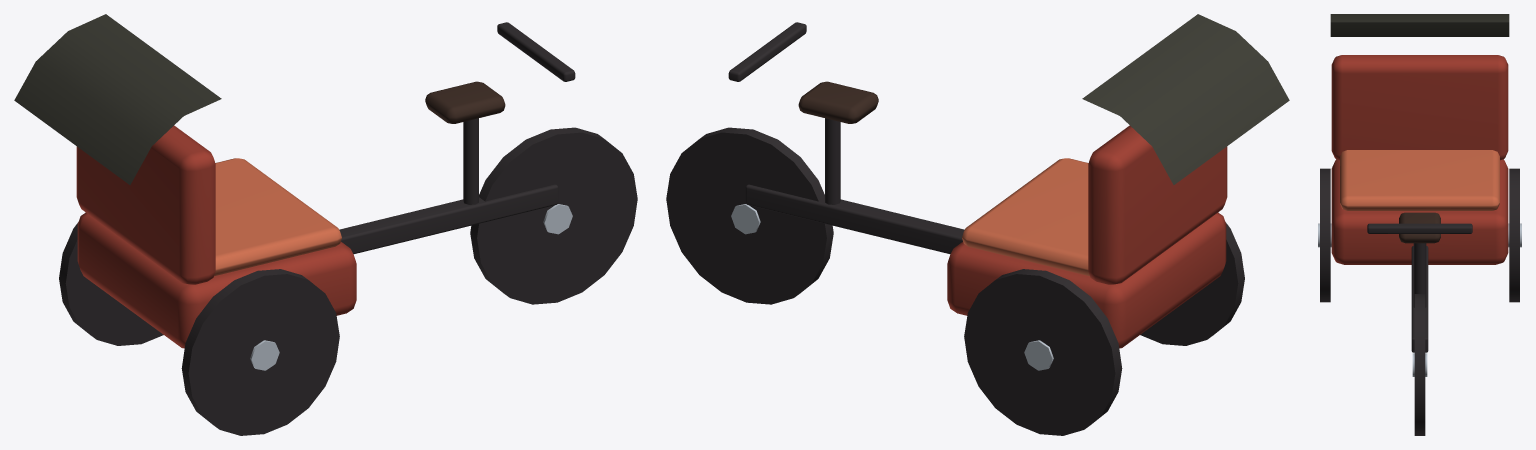
File: cyclo.glb
3 views of the same model, side by side, from view 1: azimuth 30°, elevation 25°; view 2: azimuth 150°, elevation 25°; view 3: azimuth 270°, elevation 25° (orthographic). The views are drawn at different scales.
Parts seen in each view (by area): view 1: Wheel.002, Wheel, Hood, Back, SeatBox, Cushion, Frame, Wheel.001, RiderSeat, Bar, Post, Hub (+1 smaller); view 2: Wheel.002, Wheel.001, Hood, Back, SeatBox, Cushion, Frame, Wheel, RiderSeat, Bar, Post, Hub.001 (+1 smaller); view 3: Back, Cushion, SeatBox, Hood, Wheel.002, Wheel, Wheel.001, Bar, RiderSeat, Post, Frame.
Boxes of the visible parts, x1,y1,x2,y2 form: Wheel.002: [470, 127, 637, 304]; Wheel: [181, 269, 339, 435]; Hood: [14, 14, 221, 184]; Back: [76, 125, 215, 284]; SeatBox: [77, 212, 356, 348]; Cushion: [214, 158, 341, 276]; Frame: [339, 184, 558, 254]; Wheel.001: [59, 222, 163, 345]; RiderSeat: [425, 81, 505, 123]; Bar: [497, 22, 575, 81]; Post: [463, 118, 478, 204]; Hub: [250, 340, 279, 370]; Wheel.002: [666, 127, 833, 304]; Wheel.001: [964, 269, 1122, 435]; Hood: [1082, 14, 1289, 184]; Back: [1088, 125, 1227, 284]; SeatBox: [947, 212, 1226, 348]; Cushion: [962, 158, 1089, 276]; Frame: [745, 184, 964, 254]; Wheel: [1140, 222, 1244, 345]; RiderSeat: [798, 81, 878, 123]; Bar: [728, 22, 806, 81]; Post: [825, 118, 840, 204]; Hub.001: [1024, 340, 1053, 370]; Back: [1331, 55, 1508, 160]; Cushion: [1340, 150, 1499, 210]; SeatBox: [1331, 159, 1508, 264]; Hood: [1330, 14, 1509, 36]; Wheel.002: [1414, 294, 1425, 435]; Wheel: [1320, 168, 1330, 302]; Wheel.001: [1509, 168, 1519, 302]; Bar: [1367, 223, 1472, 233]; RiderSeat: [1399, 212, 1440, 243]; Post: [1413, 243, 1426, 307]; Frame: [1411, 246, 1428, 352].
Size of the model in its own units: 2.38 by 1.37 by 0.97.
